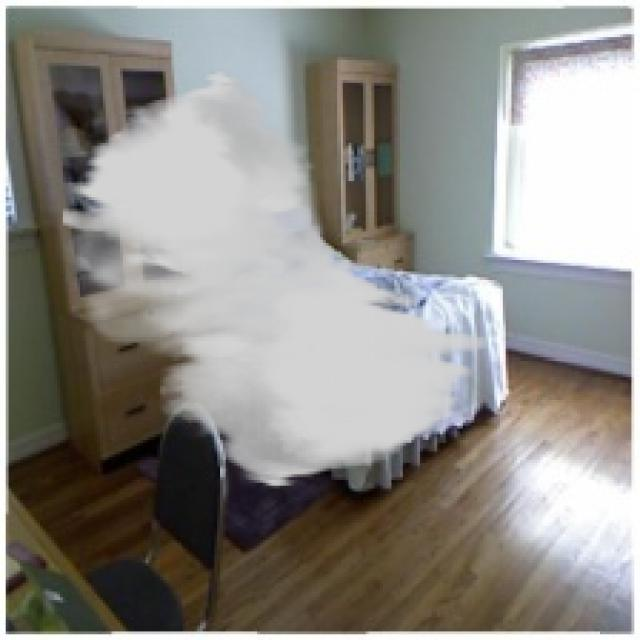smoke: (60, 69, 486, 488)
